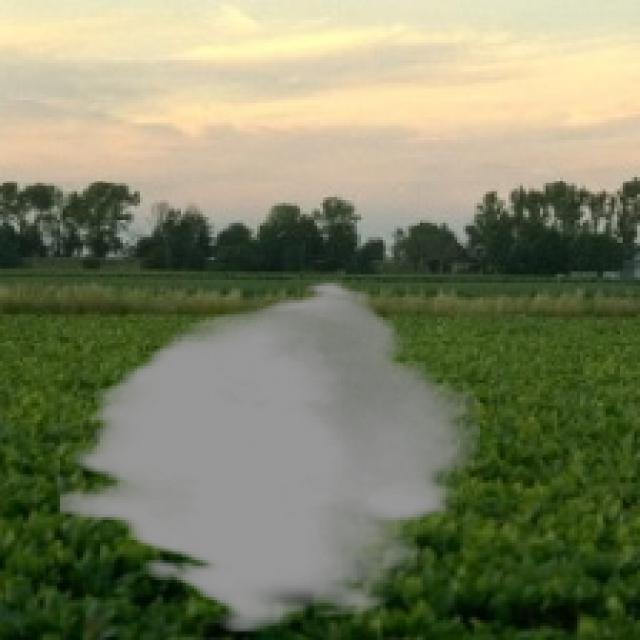Smoke: (60, 280, 480, 634)
